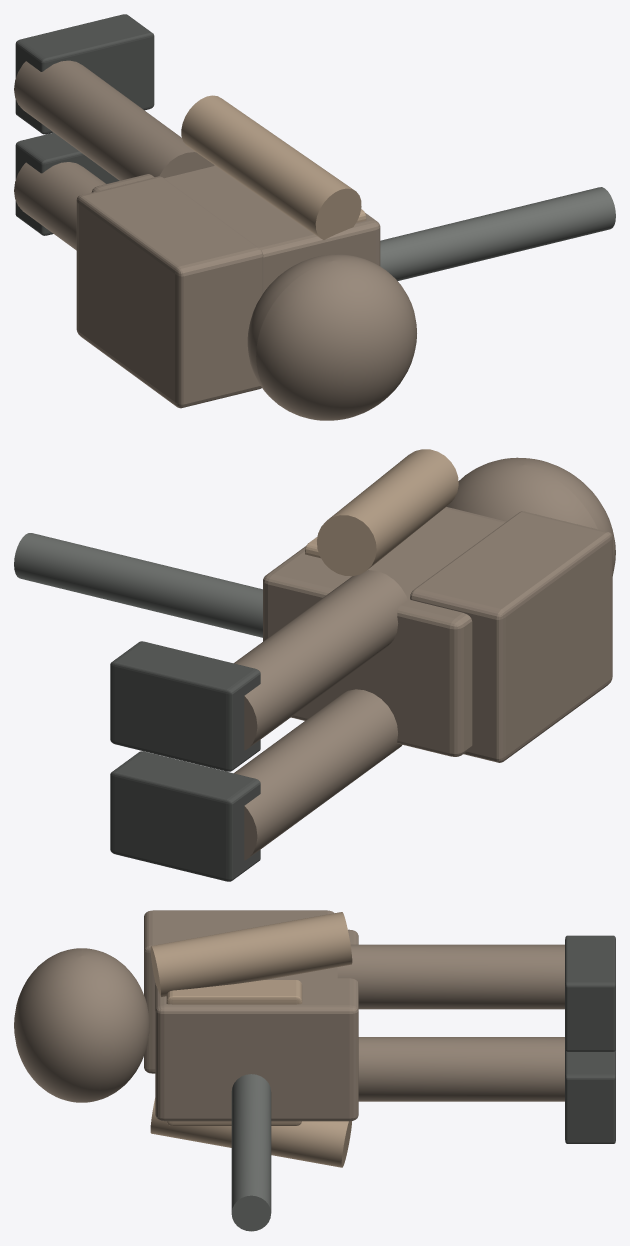
Rendered from d-u03-dominion-sniper-lod1.glb.
3 views of the same model, one above another, from view 1: azimuth 30°, elevation 25°; view 2: azimuth 150°, elevation 25°; view 3: azimuth 270°, elevation 25° (orthographic). The views are drawn at different scales.
Visible parts, largest first — view 1: soldier_0_backpack, soldier_0_helmet, soldier_0_leg_1, soldier_0_arm_1, soldier_0_sniper, soldier_0_torso, soldier_0_boot_1, soldier_0_leg_-1, soldier_0_boot_-1; view 2: soldier_0_backpack, soldier_0_torso, soldier_0_boot_-1, soldier_0_boot_1, soldier_0_leg_1, soldier_0_leg_-1, soldier_0_sniper, soldier_0_arm_1, soldier_0_helmet; view 3: soldier_0_torso, soldier_0_helmet, soldier_0_leg_1, soldier_0_leg_-1, soldier_0_arm_1, soldier_0_sniper, soldier_0_boot_1, soldier_0_backpack, soldier_0_boot_-1, soldier_0_arm_-1, soldier_0_chest.
Boxes of the visible parts, left/top/right/bottom form: soldier_0_backpack: left=76, top=176, right=263, bottom=408; soldier_0_helmet: left=247, top=254, right=416, bottom=420; soldier_0_leg_1: left=14, top=60, right=214, bottom=180; soldier_0_arm_1: left=181, top=95, right=361, bottom=239; soldier_0_sniper: left=380, top=187, right=615, bottom=280; soldier_0_torso: left=91, top=165, right=380, bottom=292; soldier_0_boot_1: left=15, top=14, right=154, bottom=134; soldier_0_leg_-1: left=14, top=162, right=105, bottom=250; soldier_0_boot_-1: left=15, top=132, right=119, bottom=235; soldier_0_backpack: left=410, top=511, right=612, bottom=762; soldier_0_torso: left=263, top=507, right=506, bottom=756; soldier_0_boot_-1: left=110, top=751, right=260, bottom=881; soldier_0_boot_1: left=110, top=641, right=260, bottom=771; soldier_0_leg_1: left=234, top=570, right=407, bottom=750; soldier_0_leg_-1: left=234, top=689, right=402, bottom=860; soldier_0_sniper: left=14, top=533, right=262, bottom=637; soldier_0_arm_1: left=317, top=449, right=458, bottom=576; soldier_0_helmet: left=446, top=457, right=615, bottom=575; soldier_0_torso: left=155, top=929, right=358, bottom=1121; soldier_0_helmet: left=14, top=948, right=149, bottom=1102; soldier_0_leg_1: left=337, top=944, right=564, bottom=1009; soldier_0_leg_-1: left=358, top=1037, right=564, bottom=1101; soldier_0_arm_1: left=150, top=912, right=352, bottom=996; soldier_0_sniper: left=231, top=1074, right=271, bottom=1231; soldier_0_boot_1: left=565, top=935, right=615, bottom=1051; soldier_0_backpack: left=144, top=910, right=334, bottom=1073; soldier_0_boot_-1: left=565, top=1048, right=615, bottom=1143; soldier_0_arm_-1: left=150, top=1098, right=351, bottom=1167; soldier_0_chest: left=166, top=980, right=302, bottom=1125.
Size of what is drawn, in the model's own units: 1.73 by 0.894 by 2.04.
